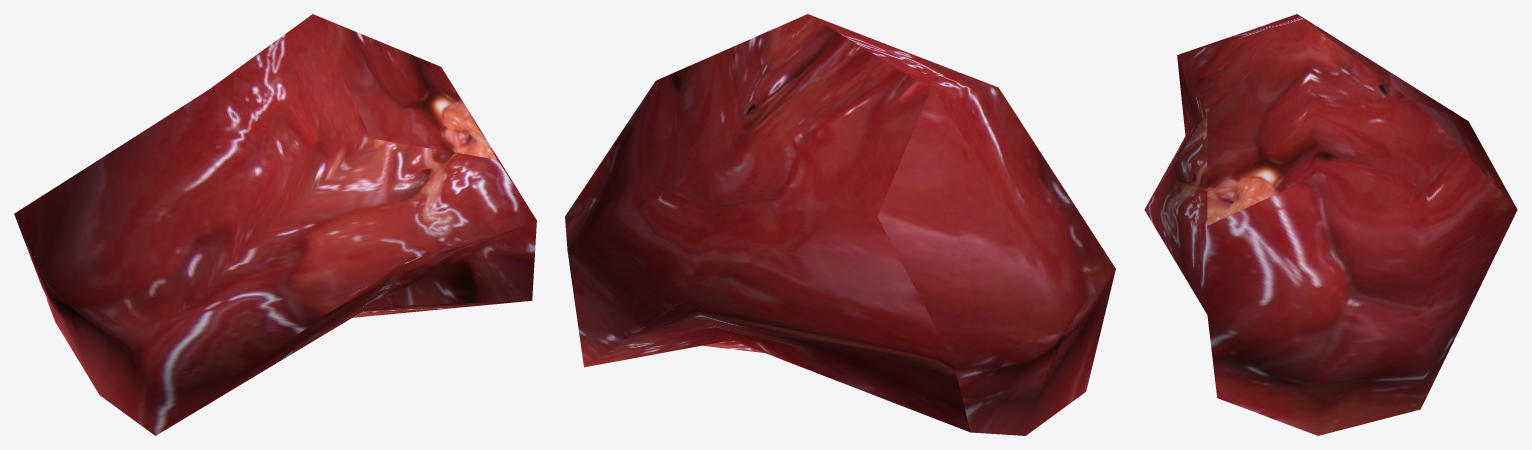
Rendered from gib_05.fbx.
3 views of the same model, side by side, from view 1: azimuth 30°, elevation 25°; view 2: azimuth 150°, elevation 25°; view 3: azimuth 270°, elevation 25° (orthographic). The views are drawn at different scales.
Parts seen in each view (by area): view 1: meaty_gib1; view 2: meaty_gib1; view 3: meaty_gib1.
Part boxes in pixels (bbox=[...]): meaty_gib1: bbox=[14, 14, 536, 435]; meaty_gib1: bbox=[565, 14, 1115, 435]; meaty_gib1: bbox=[1144, 14, 1517, 435].
Size of the model in its own units: 0.2933 by 0.2033 by 0.2077.
